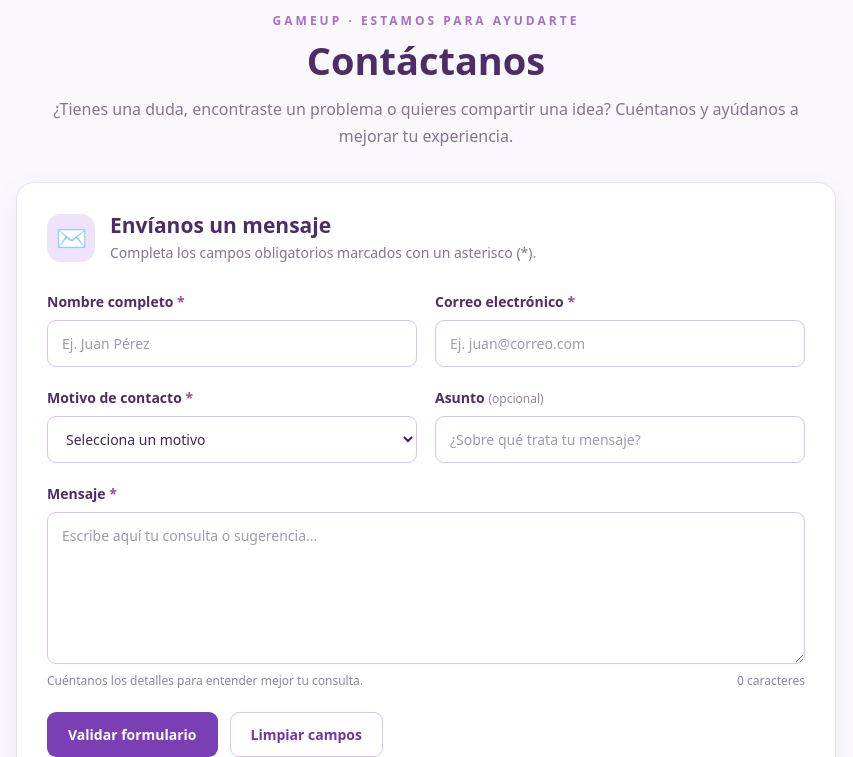
Test: Componente Contacto › rechaza un correo electrónico con formato inválido
Type "correo-invalido" into the field labelled "Correo electrónico *".
click(620, 344); type("correo-invalido")  # box [435,320,805,367]
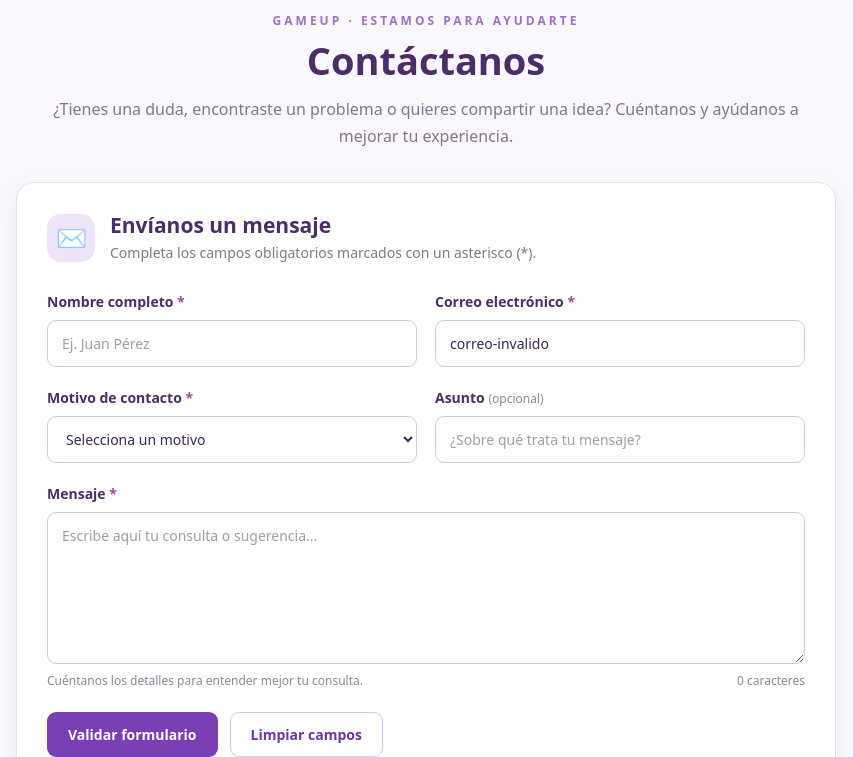
Click the button "Validar formulario".
click(132, 735)  # box [47,712,218,756]
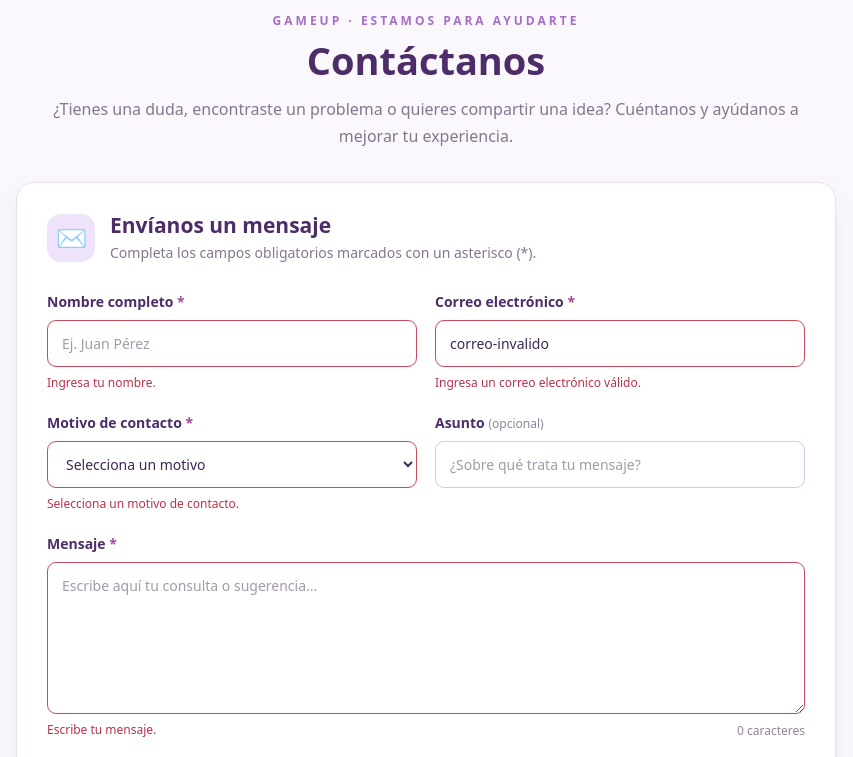
Expected: the text "Ingresa un correo electrónico válido." is shown, [435,374,641,391]
